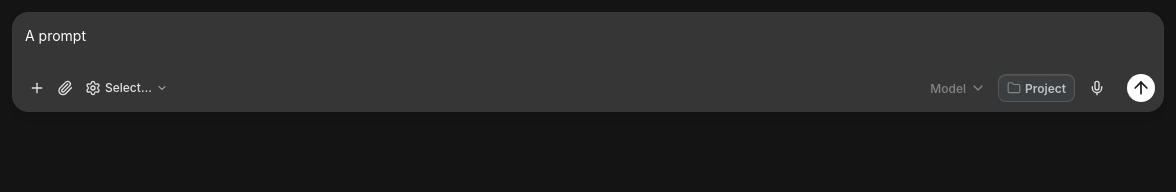
Test: composer image input › opens the persistent chooser from Add and closes the only menu
Click the button named "Composer options" at coordinates (37, 88), box [25,74,49,102]
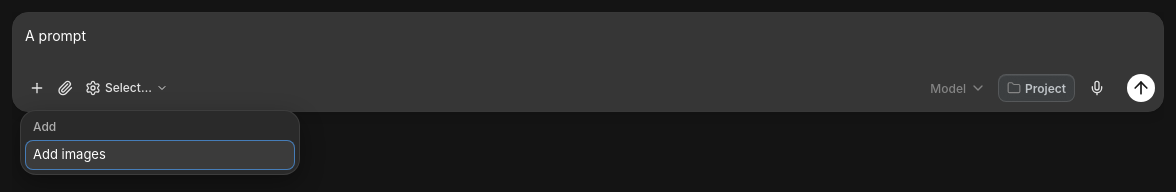
Click the menu item "Add images" at coordinates (69, 154), box [25,140,295,170]
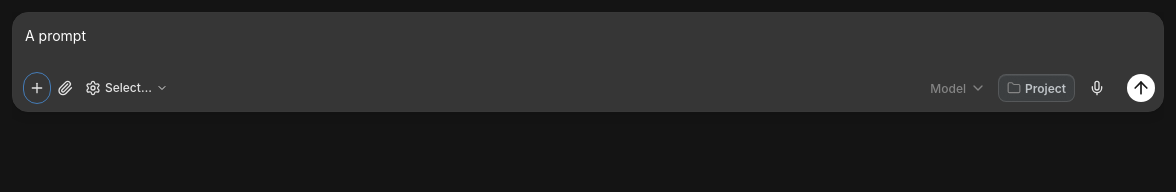
Expected: the menu is gone
